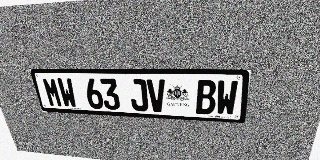3: (100, 78, 121, 110)
6: (83, 78, 105, 109)
B: (196, 80, 217, 115)
J: (128, 79, 149, 111)
M: (41, 78, 63, 107)
V: (146, 79, 166, 112)
W: (215, 80, 238, 116), (56, 78, 78, 108)
